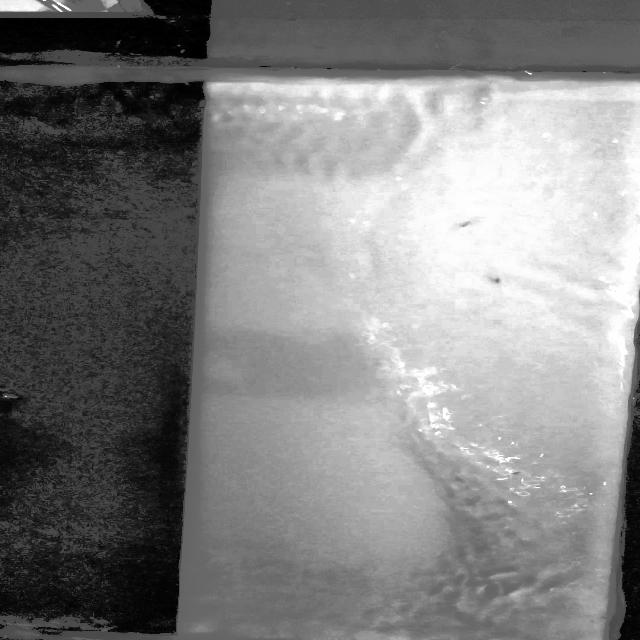shrimp: (441, 214, 489, 232), (478, 272, 512, 292)
